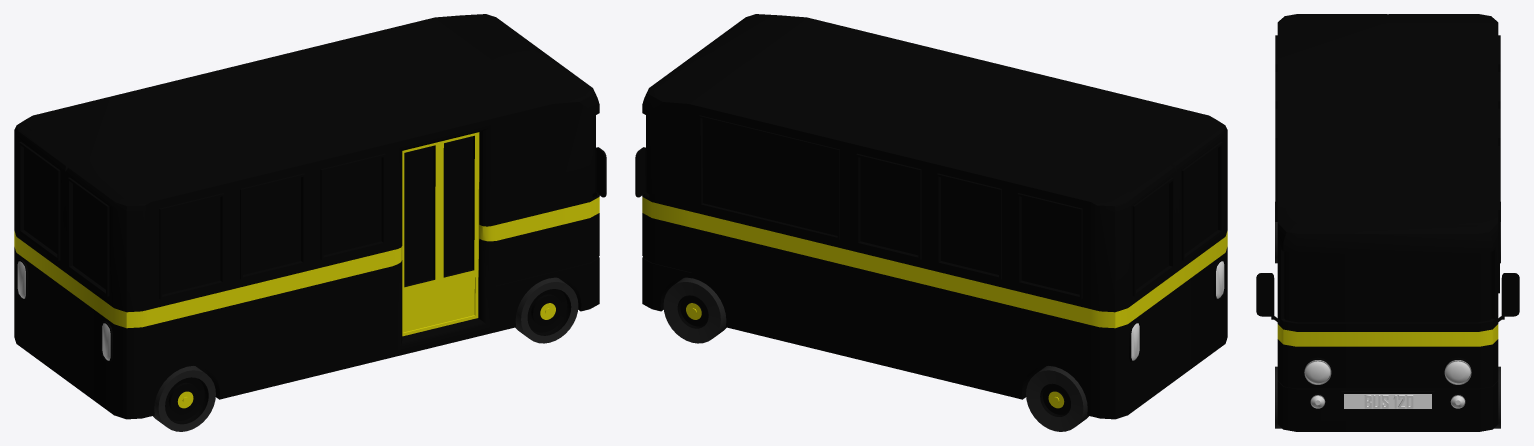
File: bus2.fbx
3 views of the same model, side by side, from view 1: azimuth 30°, elevation 25°; view 2: azimuth 150°, elevation 25°; view 3: azimuth 270°, elevation 25° (orthographic). The views are drawn at different scales.
Parts seen in each view (by area): view 1: bus2; view 2: bus2; view 3: bus2, bus1_4.
Part boxes in pixels (bbox=[...]): bus2: bbox=[14, 14, 606, 431]; bus2: bbox=[635, 14, 1227, 431]; bus2: bbox=[1256, 14, 1519, 431]; bus1_4: bbox=[1364, 395, 1413, 408].
Size of the model in its own units: 976 by 450 by 486.
